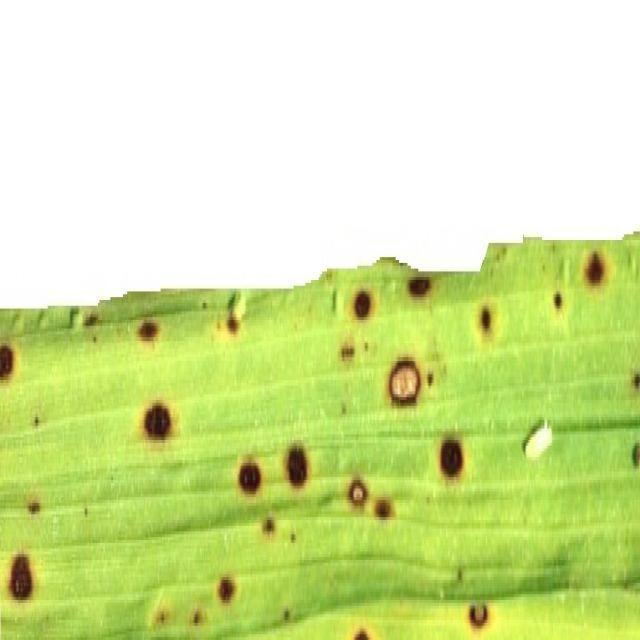Brownspot: (388, 358, 421, 406), (9, 554, 32, 600), (144, 402, 171, 440), (440, 438, 463, 478), (286, 444, 307, 487), (238, 460, 261, 494), (584, 251, 604, 285), (348, 477, 367, 507), (408, 276, 432, 298), (353, 290, 371, 319), (0, 344, 14, 380), (468, 603, 488, 628), (217, 576, 235, 603), (138, 320, 158, 341), (374, 498, 392, 518), (479, 305, 491, 333), (262, 517, 276, 536), (155, 607, 169, 625), (191, 608, 204, 626), (84, 312, 99, 327), (340, 344, 354, 360), (227, 313, 238, 333), (27, 499, 40, 514), (632, 442, 639, 467), (354, 628, 369, 639), (553, 291, 562, 309), (632, 372, 639, 390), (426, 371, 433, 386), (283, 608, 290, 621), (457, 567, 463, 582), (33, 415, 39, 427), (290, 532, 296, 542), (84, 506, 87, 516)
